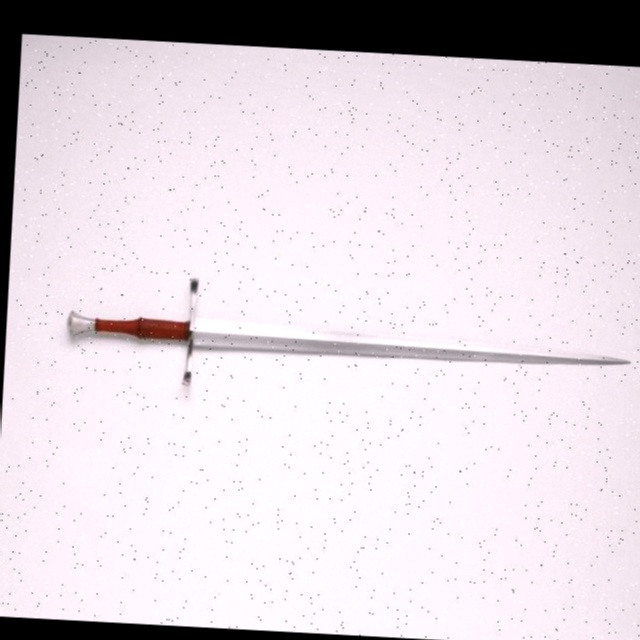Sharp-Object: (47, 309, 633, 385)
